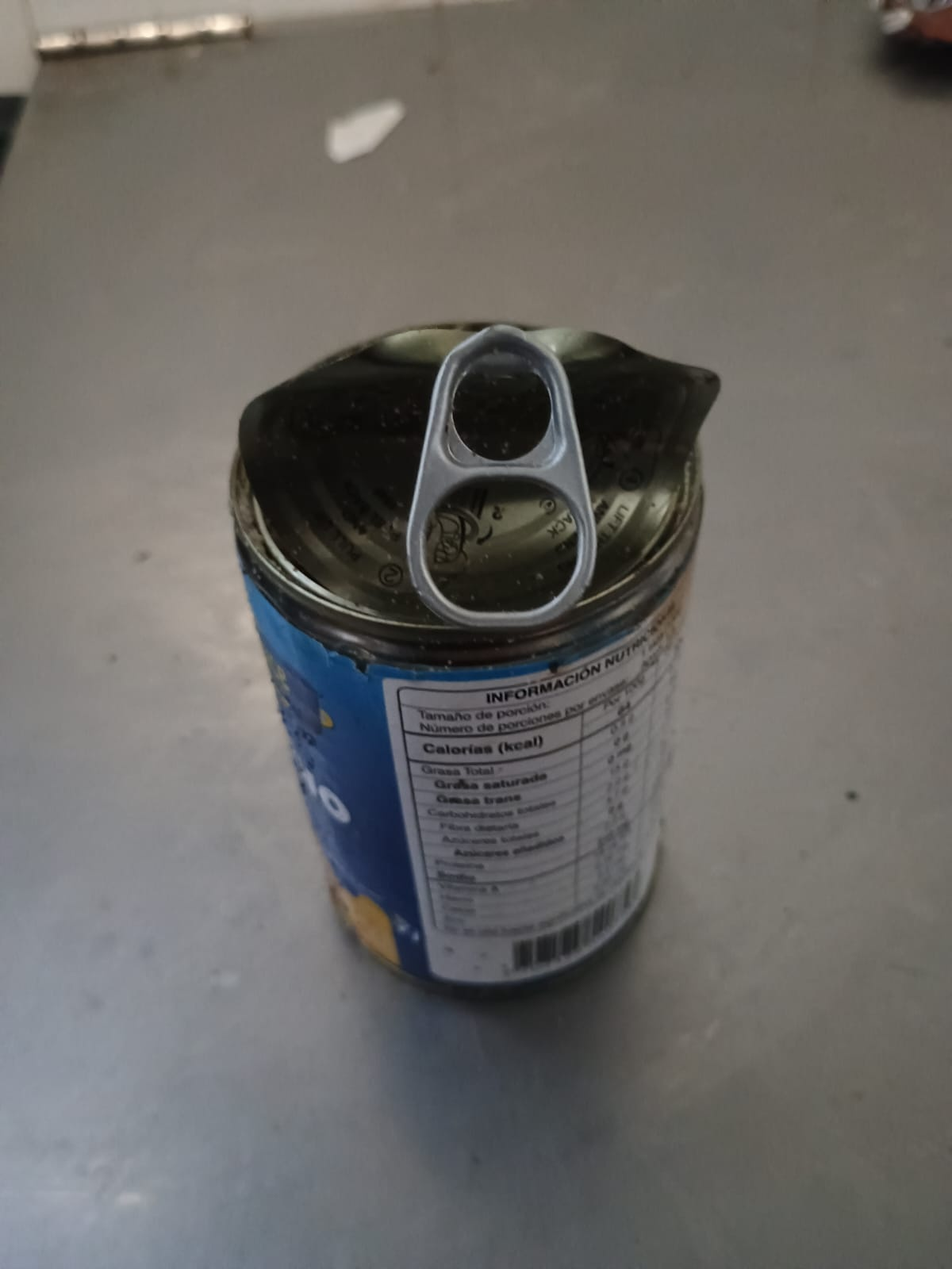Metal: (232, 317, 722, 1000)
